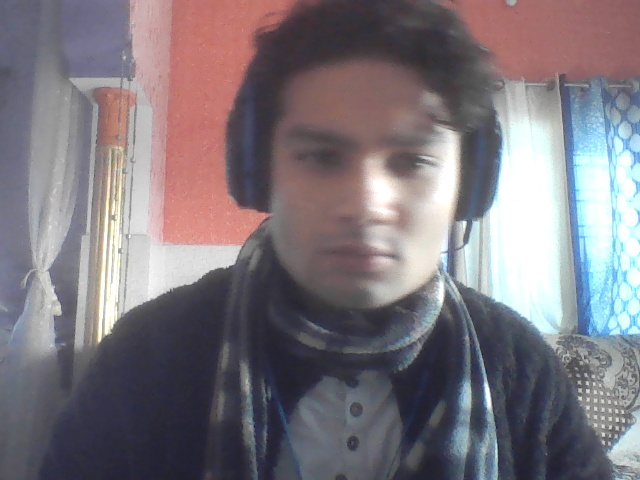real: (238, 0, 492, 360)
